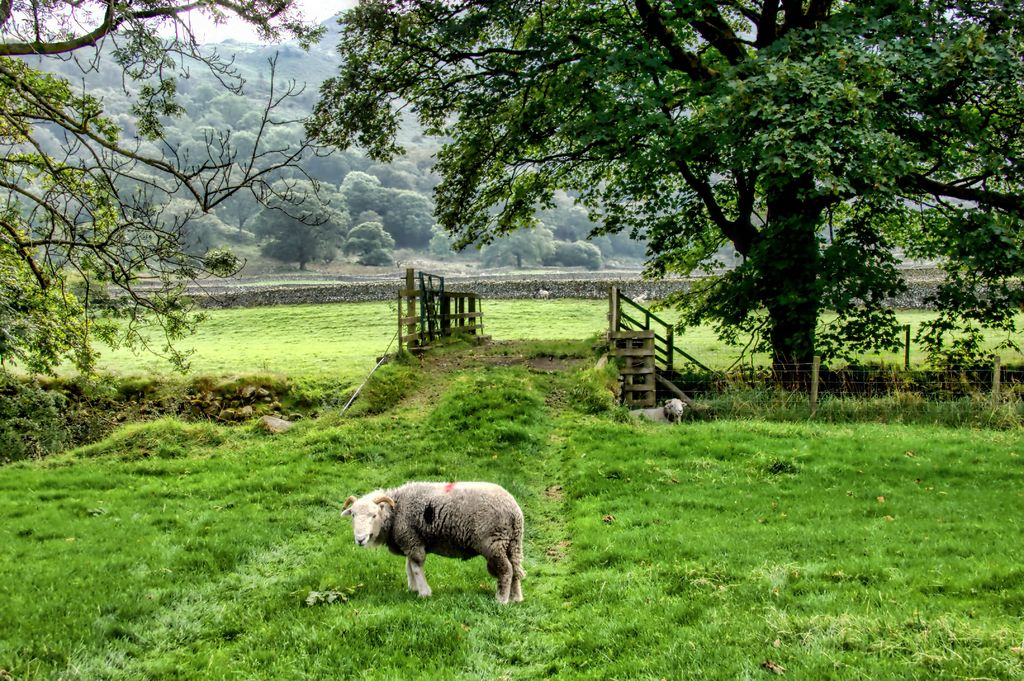sheep: (345, 485, 537, 606)
